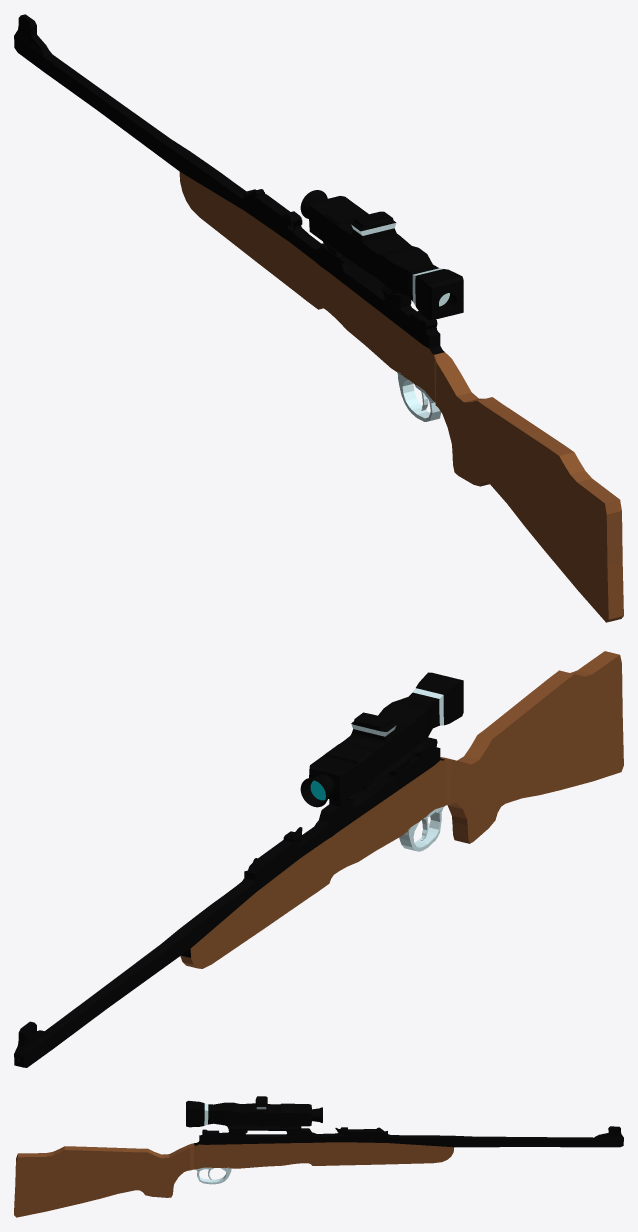
The model's file is SniperRiffle.fbx.
3 views of the same model, one above another, from view 1: azimuth 30°, elevation 25°; view 2: azimuth 150°, elevation 25°; view 3: azimuth 270°, elevation 25° (orthographic). The views are drawn at different scales.
Parts seen in each view (by area): view 1: Cube; view 2: Cube; view 3: Cube.
Boxes of the visible parts, bbox=[...] form: Cube: bbox=[14, 14, 623, 622]; Cube: bbox=[14, 651, 623, 1067]; Cube: bbox=[14, 1096, 623, 1217].
Bounding box in the file's own units: 17.9 × 98.51 × 471.
